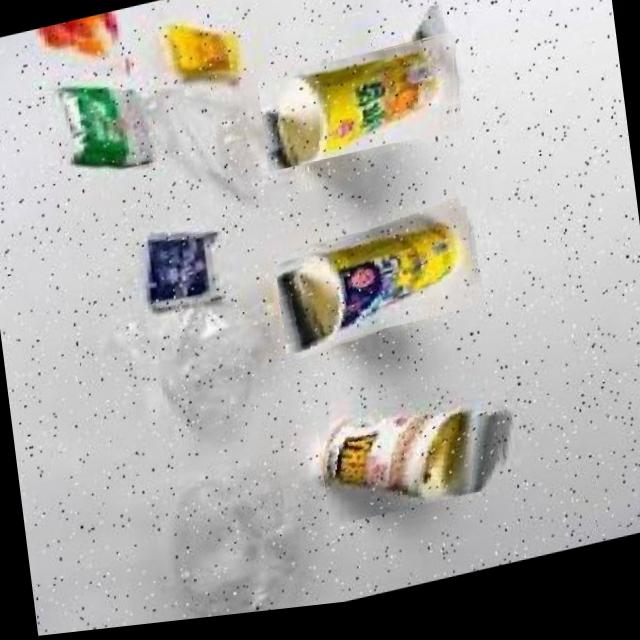Miscellaneous: (270, 207, 482, 364), (314, 370, 512, 536), (255, 39, 464, 180)
